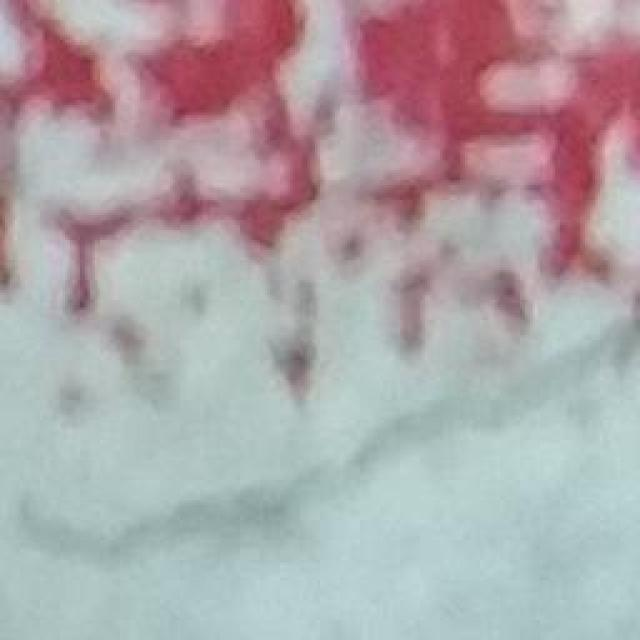Diagonal: (12, 315, 640, 575)
Rippled: (0, 0, 636, 302)
